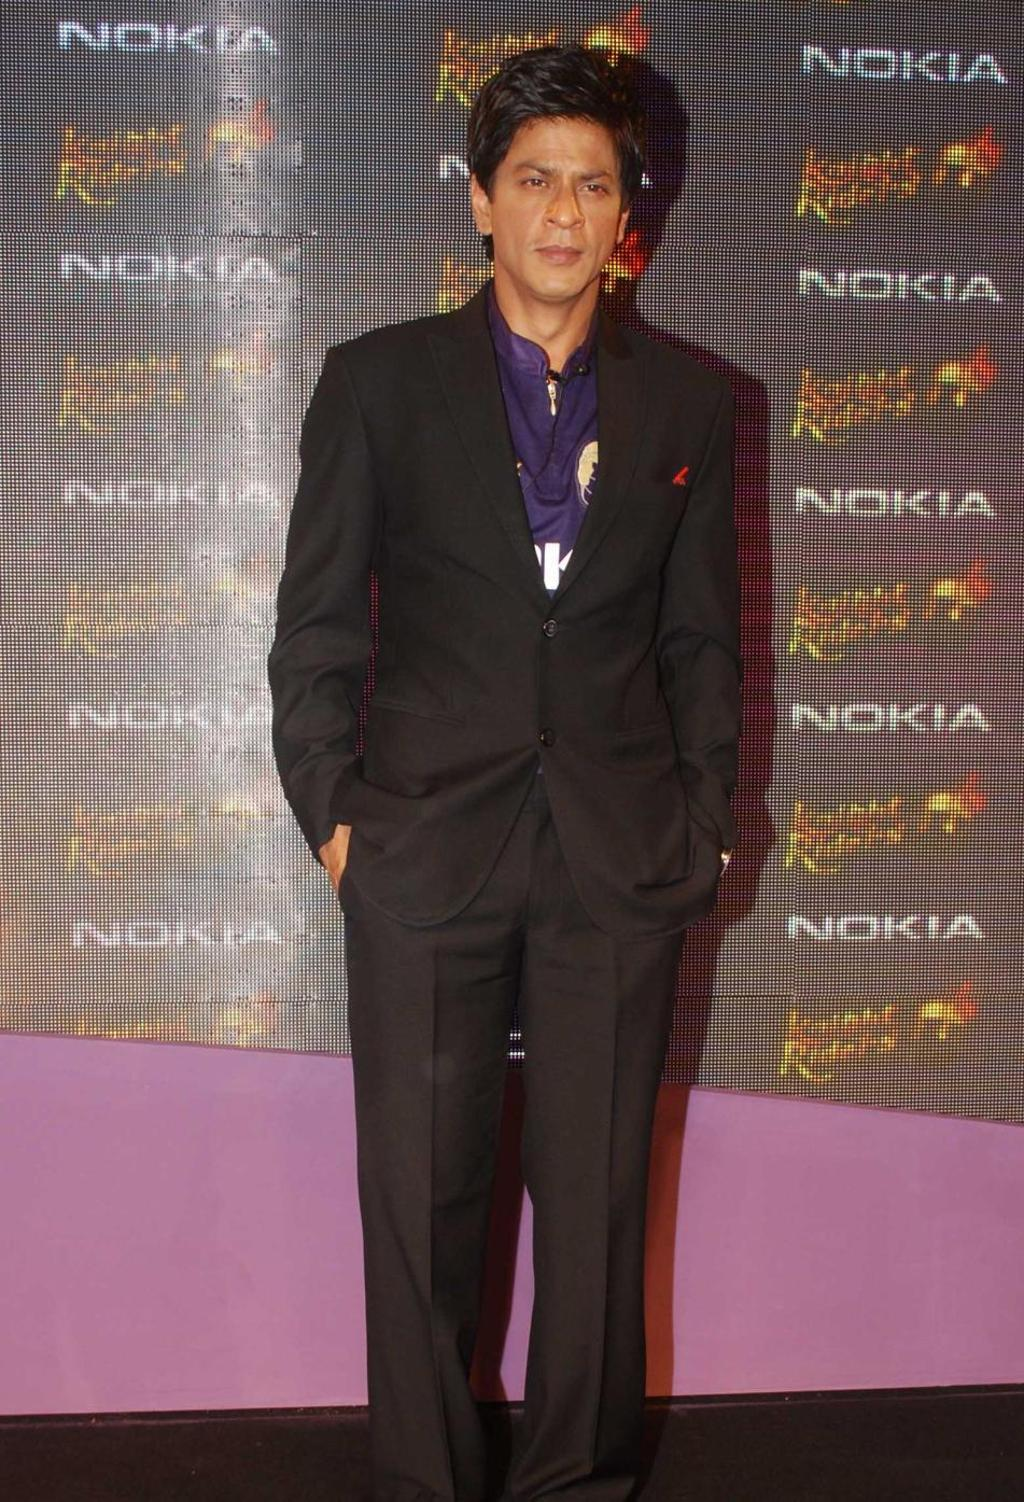face: (497, 121, 620, 300)
